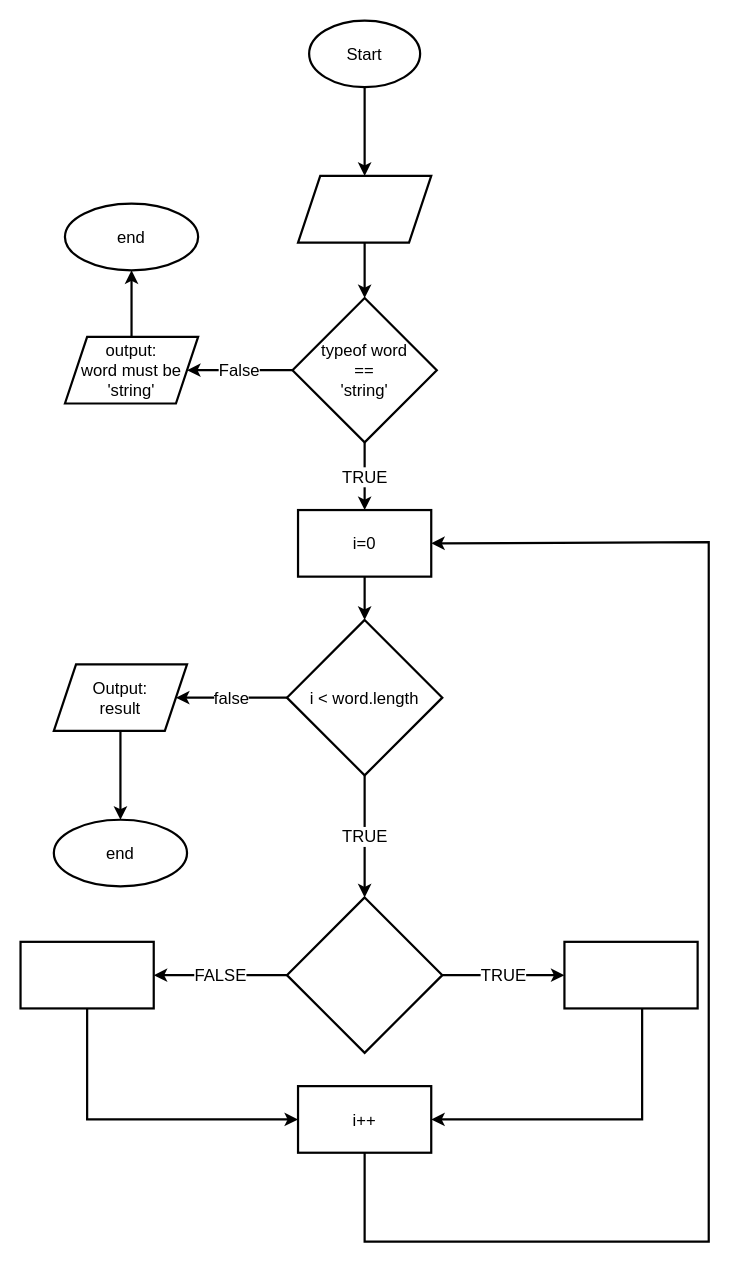
This 737x1270 diagram has some shape labels left out. The shapes that lost their labels are listed below. From the top down, each one's centre as x and y in pixels, then its label:
the point at 364,208: input: word
the point at 86,974: result += word[i]
the point at 364,974: word[i] == 'a'
the point at 630,974: result += 'o'
